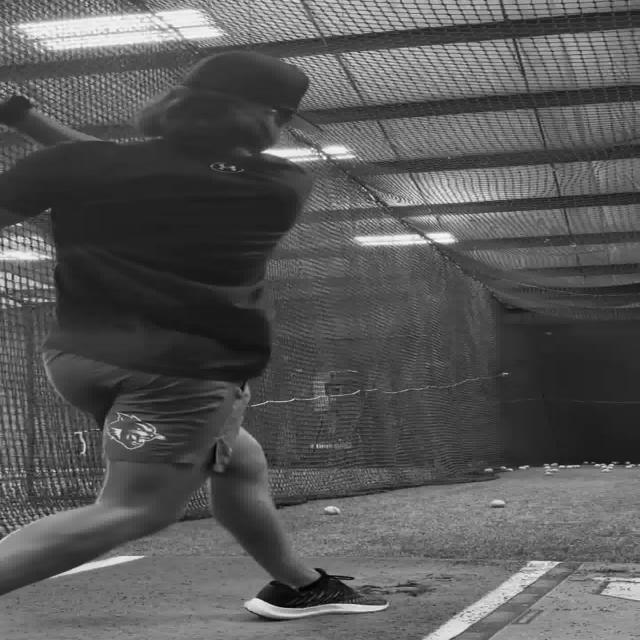baseball: (487, 499, 505, 508), (323, 506, 340, 514)
shoe: (243, 567, 389, 620)
